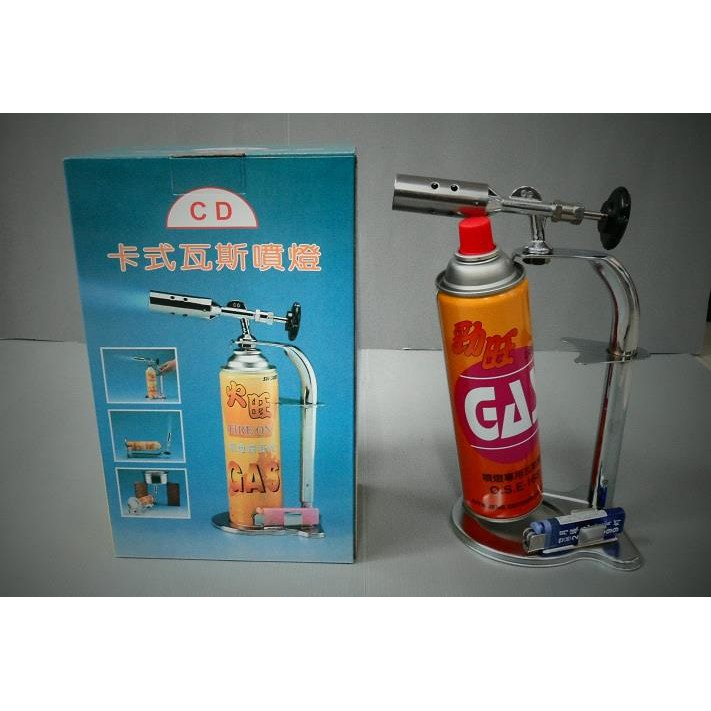gastorch: (388, 173, 653, 570), (147, 292, 326, 540), (132, 350, 169, 406), (125, 428, 179, 463), (122, 484, 168, 513)
